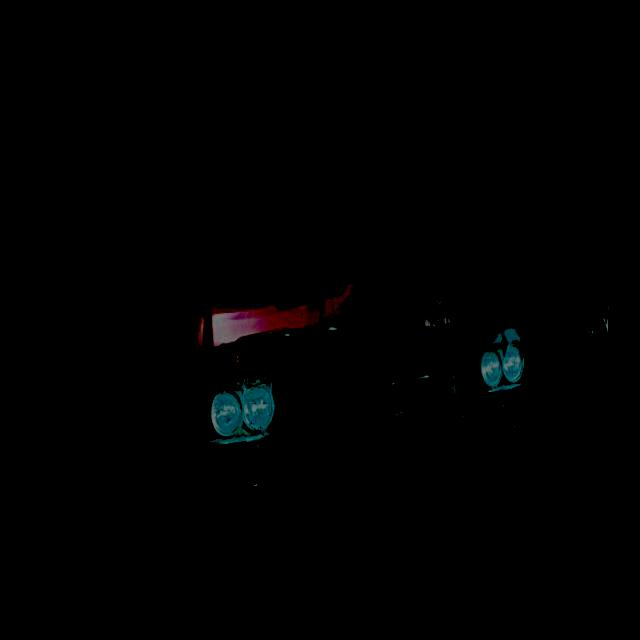Car: (160, 255, 532, 510)
